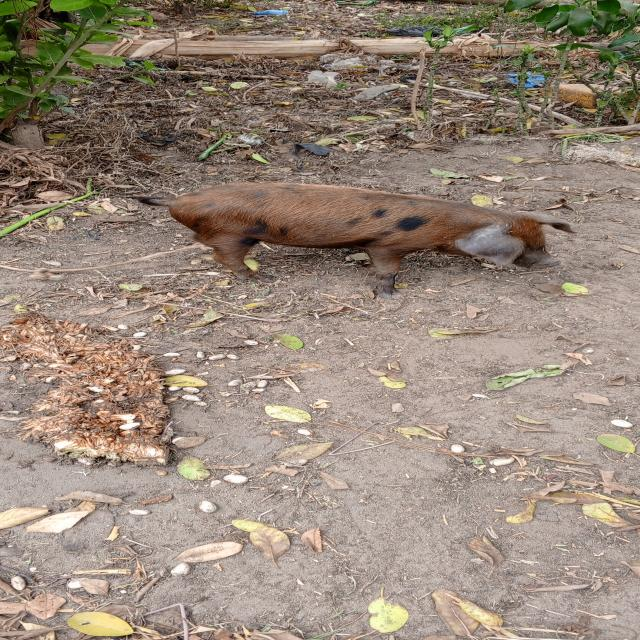pig: (79, 147, 640, 323)
